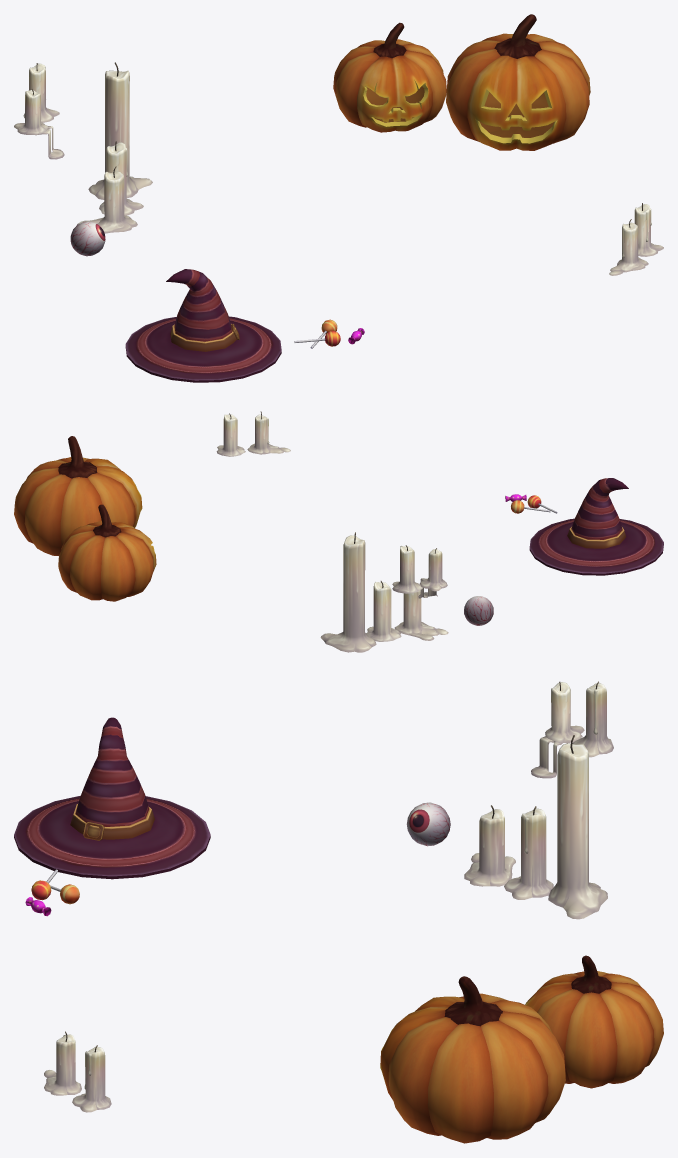
The model's file is wangshengjie_wujian_01.FBX.
The picture shows the model from 3 angles, top to bottom: view 1: azimuth 30°, elevation 25°; view 2: azimuth 150°, elevation 25°; view 3: azimuth 270°, elevation 25°; orthographic projection. The views are drawn at different scales.
Visible parts, largest first — view 1: nangua_04, maozi_01, lazhu_UV2, nangua_06; view 2: lazhu_UV2, nangua_04, maozi_01, nangua_06; view 3: nangua_04, lazhu_UV2, maozi_01, nangua_06.
Boxes of the visible parts, bbox=[...] form: nangua_04: bbox=[446, 14, 590, 150]; maozi_01: bbox=[125, 269, 364, 382]; lazhu_UV2: bbox=[14, 62, 663, 275]; nangua_06: bbox=[333, 22, 446, 132]; lazhu_UV2: bbox=[216, 411, 493, 652]; nangua_04: bbox=[14, 436, 142, 555]; maozi_01: bbox=[505, 478, 663, 575]; nangua_06: bbox=[58, 504, 156, 601]; nangua_04: bbox=[380, 976, 565, 1143]; lazhu_UV2: bbox=[44, 681, 613, 1112]; maozi_01: bbox=[14, 717, 210, 916]; nangua_06: bbox=[525, 955, 663, 1088].
Bounding box in the file's own units: 868 × 201 × 661.
